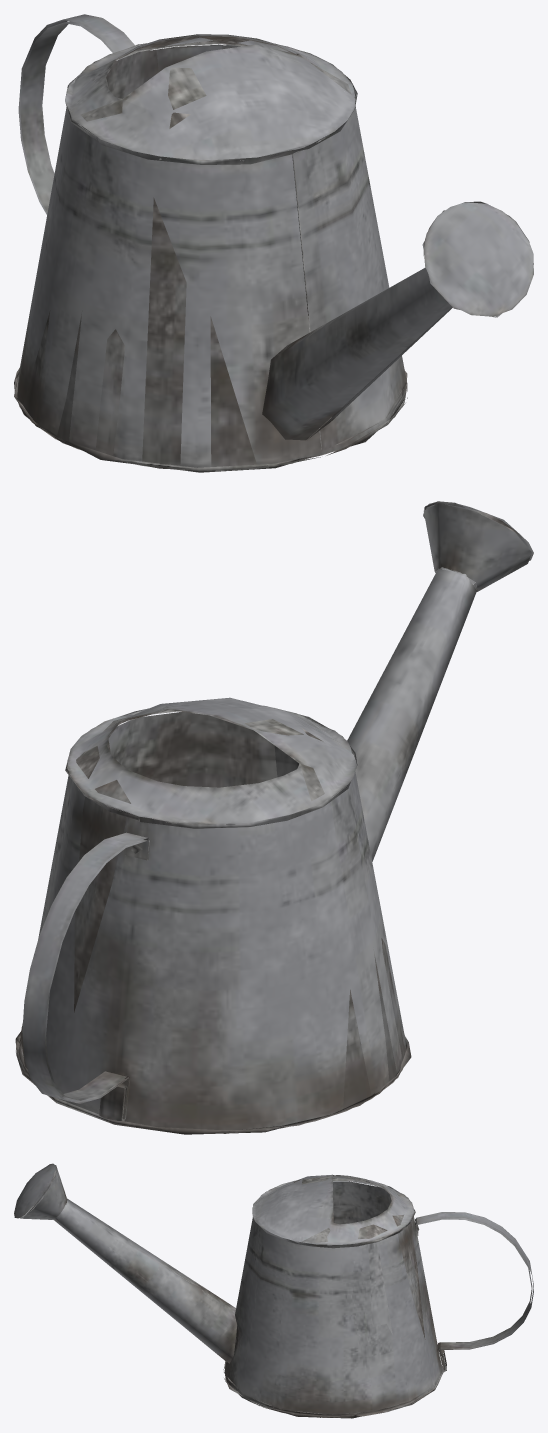
File: watering_can_metal_01.glb
3 views of the same model, one above another, from view 1: azimuth 30°, elevation 25°; view 2: azimuth 150°, elevation 25°; view 3: azimuth 270°, elevation 25° (orthographic). The views are drawn at different scales.
Parts seen in each view (by area): view 1: watering_can_metal_01; view 2: watering_can_metal_01; view 3: watering_can_metal_01.
Boxes of the visible parts, x1,y1,x2,y2 form: watering_can_metal_01: [14, 14, 533, 472]; watering_can_metal_01: [15, 501, 533, 1134]; watering_can_metal_01: [14, 1163, 533, 1418].
Bounding box in the file's own units: 0.1919 × 0.1967 × 0.452.
Materials: 1 (1 with a texture image).
